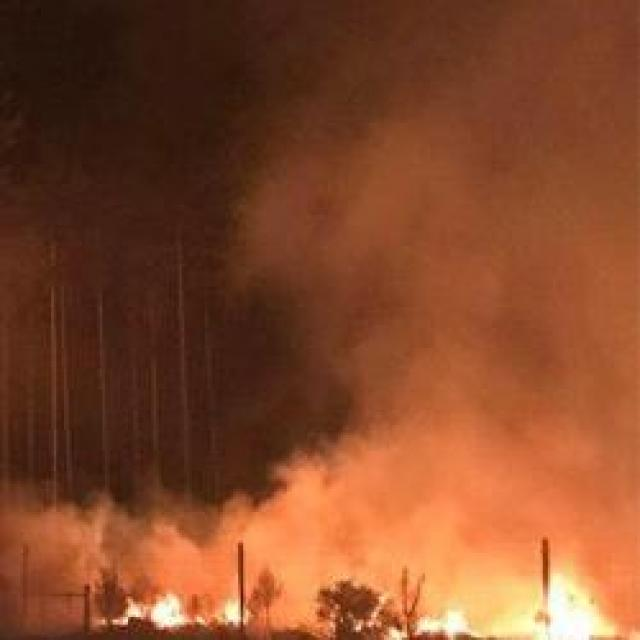fire: (123, 596, 243, 636), (542, 574, 605, 640)
smoke: (446, 498, 636, 586), (18, 502, 125, 640), (270, 466, 390, 581), (147, 507, 253, 601)
